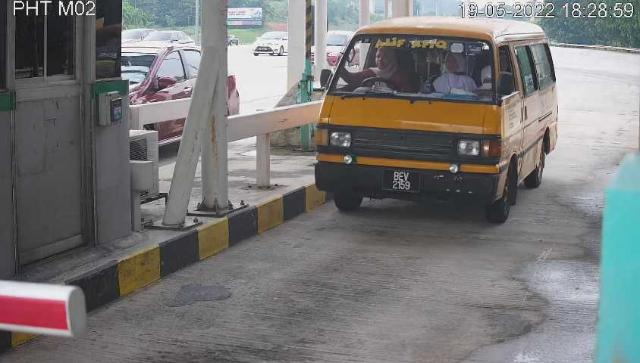License_Plate: (381, 170, 421, 197)
van: (315, 18, 559, 224)
